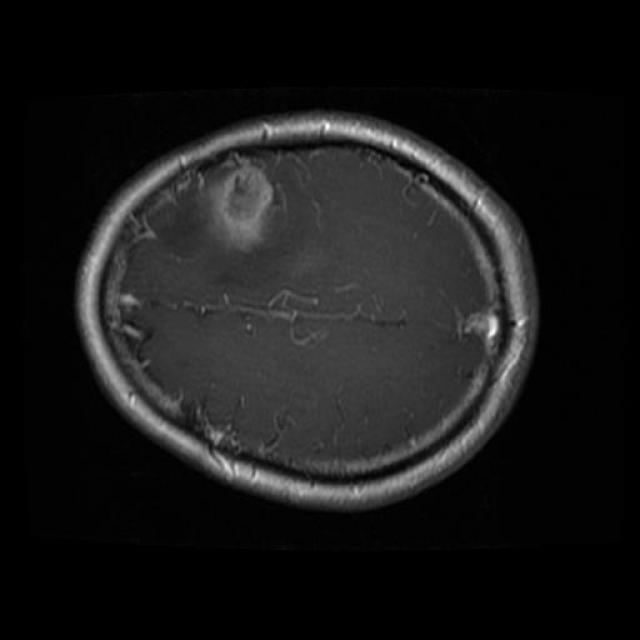Glioma: (198, 154, 273, 252)
